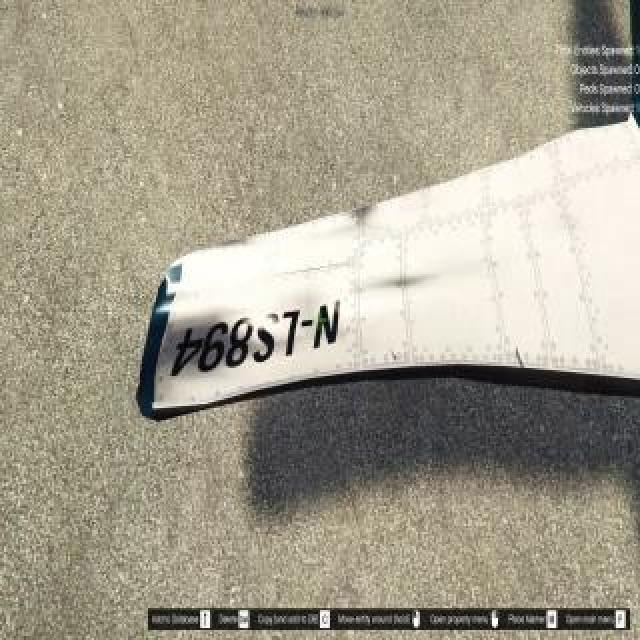dent: (146, 293, 256, 343), (373, 275, 437, 293), (349, 205, 376, 224)
